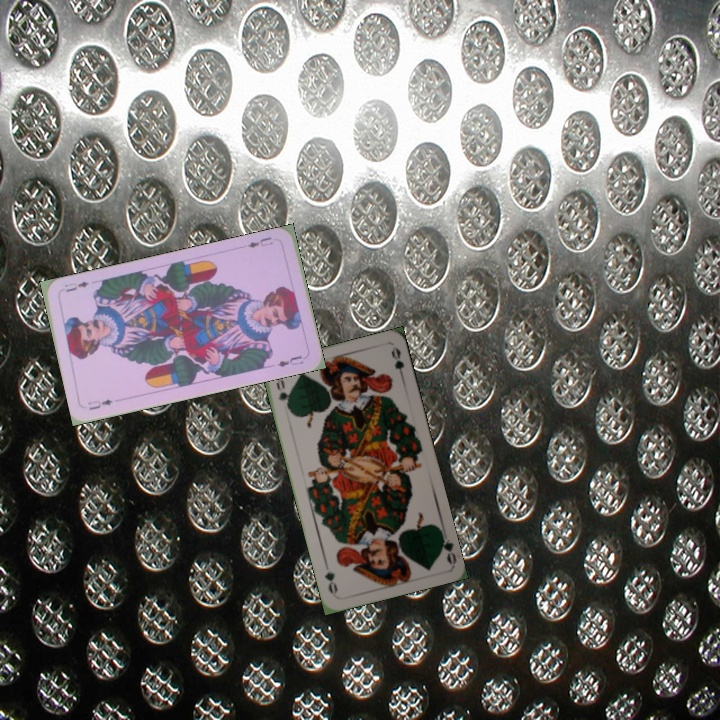EU: (244, 232, 276, 250), (84, 395, 115, 413)
GO: (435, 526, 459, 566), (272, 374, 293, 413)
